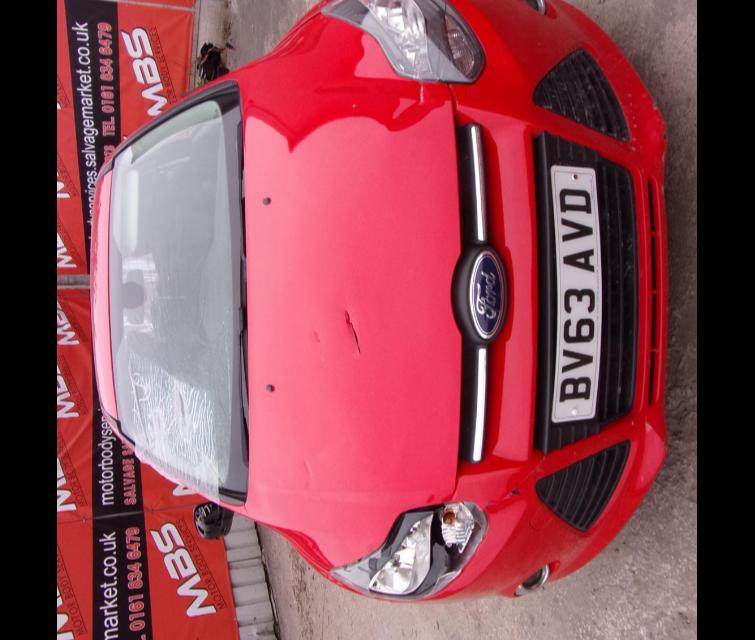Broken part: (338, 298, 364, 362), (194, 500, 234, 538), (196, 42, 229, 82)
Cracked: (108, 86, 248, 508), (326, 500, 486, 602)
Paint chip: (420, 84, 426, 106), (646, 422, 654, 430)
Scratch: (481, 482, 524, 512), (306, 458, 316, 478), (312, 328, 320, 344)
